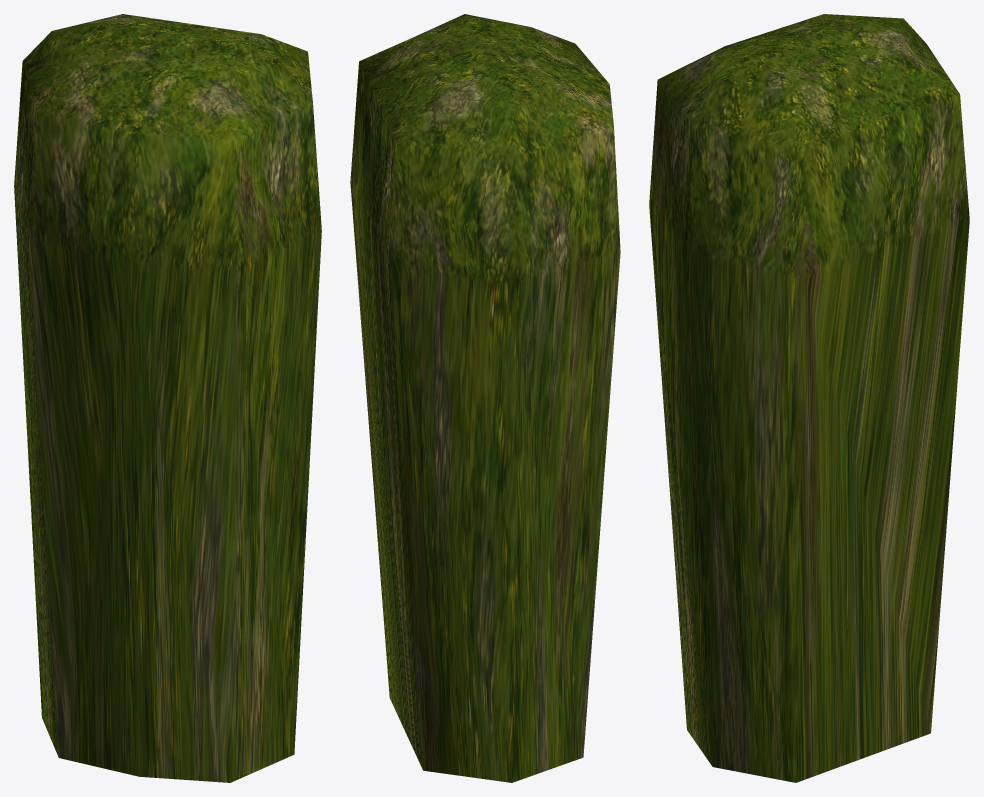
File: OVERHILL_A_01_BOX04.fbx
The picture shows the model from 3 angles, left to right: view 1: azimuth 30°, elevation 25°; view 2: azimuth 150°, elevation 25°; view 3: azimuth 270°, elevation 25°; orthographic projection. The views are drawn at different scales.
Visible parts, largest first — view 1: OVERHILL_A_01_BOX04; view 2: OVERHILL_A_01_BOX04; view 3: OVERHILL_A_01_BOX04.
Part boxes in pixels (bbox=[...]): OVERHILL_A_01_BOX04: bbox=[14, 14, 321, 782]; OVERHILL_A_01_BOX04: bbox=[350, 14, 620, 782]; OVERHILL_A_01_BOX04: bbox=[649, 14, 969, 782].
Size of the model in its own units: 17033 by 40313 by 16929.
Materials: 1 (1 with a texture image).
